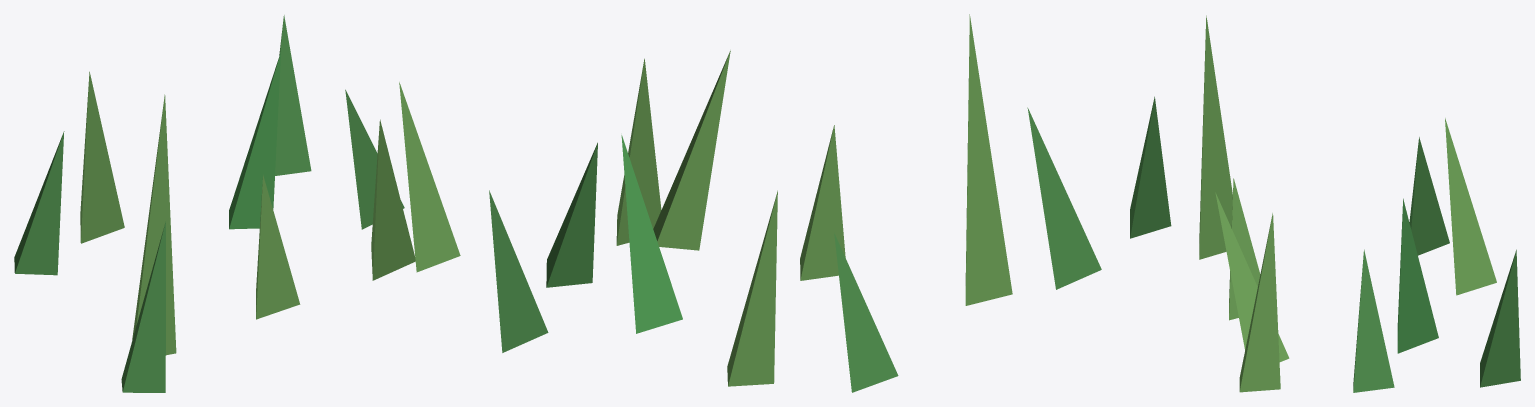
The model's file is grass.glb.
3 renders of one model, left to right at view 1: azimuth 30°, elevation 25°; view 2: azimuth 150°, elevation 25°; view 3: azimuth 270°, elevation 25°, orthographic. The views are drawn at different scales.
Parts seen in each view (by area): view 1: grass; view 2: grass; view 3: grass.
Boxes of the visible parts, box(x1,y1,x2,y2) form: grass: box(14, 15, 460, 392); grass: box(489, 14, 1101, 392); grass: box(1130, 15, 1520, 392).
Bounding box in the file's own units: 0.7851 × 0.4901 × 0.7091.
